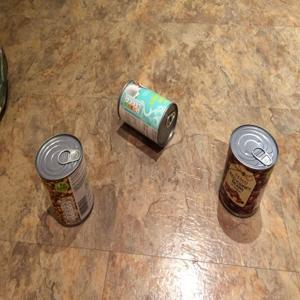metal: (33, 133, 108, 234), (217, 125, 279, 223), (106, 80, 174, 145)
